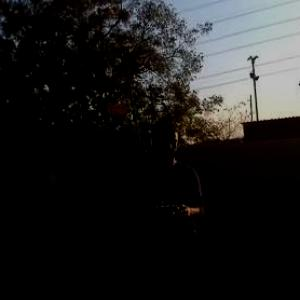follow: (132, 112, 214, 299)
